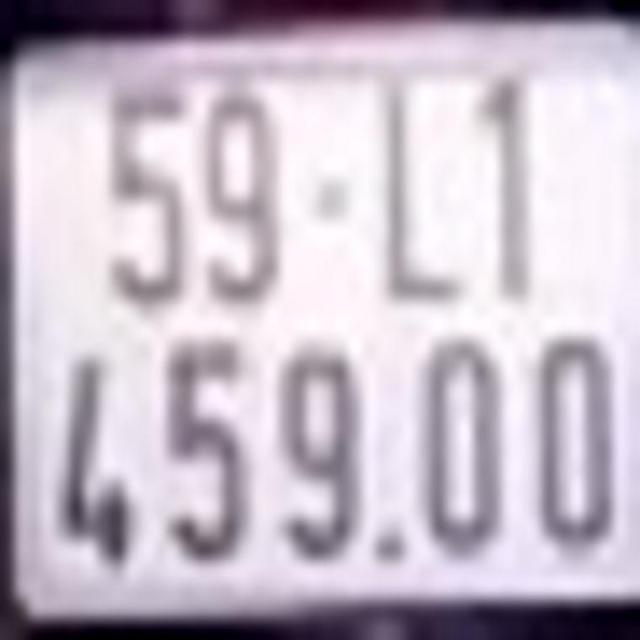0: (424, 337, 499, 553), (538, 332, 611, 543)
1: (476, 76, 528, 302)
4: (60, 351, 136, 560)
5: (164, 340, 247, 562), (110, 93, 184, 306)
9: (276, 348, 362, 559), (206, 87, 278, 302)
L: (382, 88, 462, 299)
